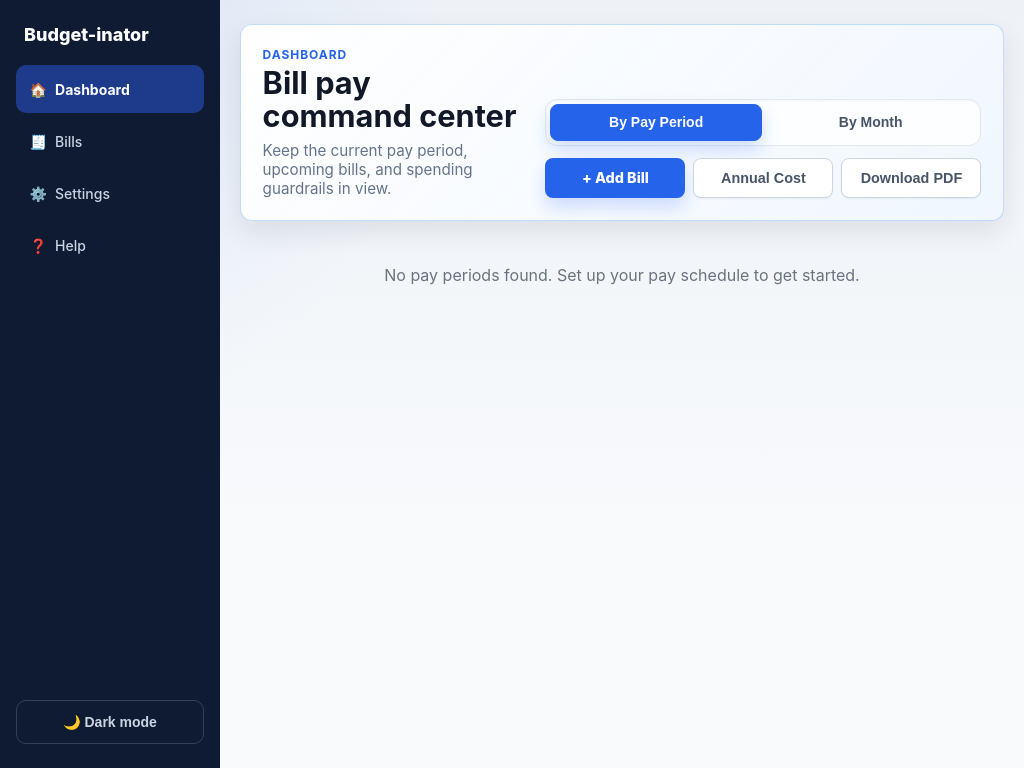
it: App › navigates to BillsPage without a full reload when the Add Bill link is clicked
Step 1. Click the link "+ Add Bill" → [615, 178], box [545,158,685,198]
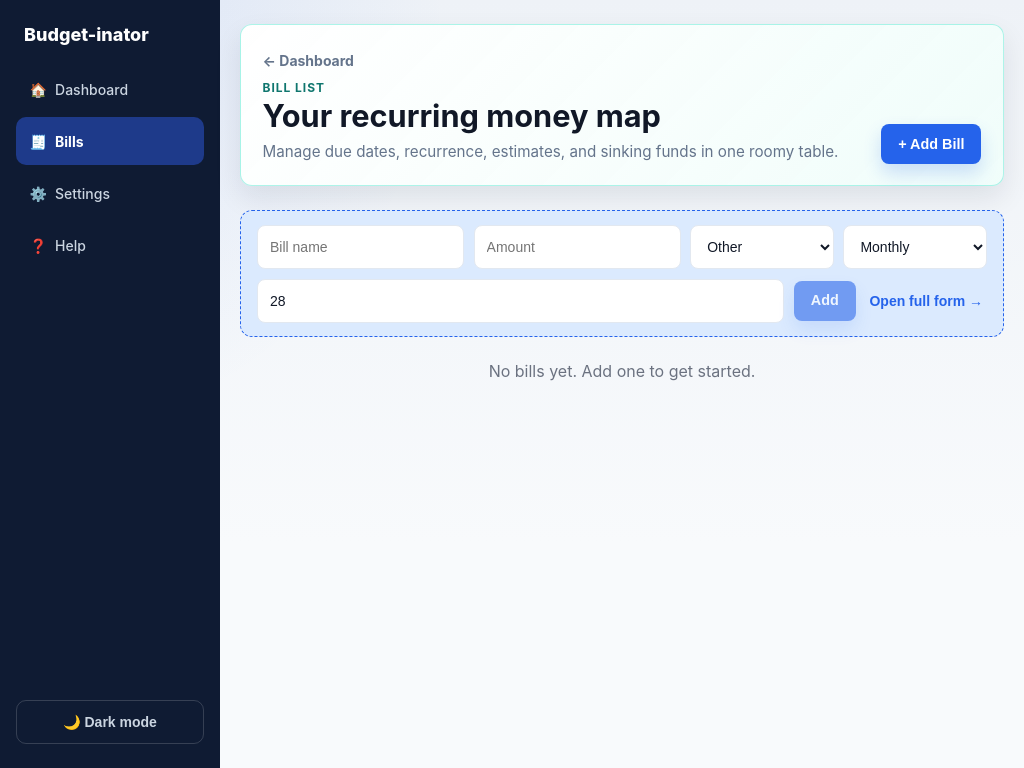
Check: the heading "Your recurring money map" is shown, box [263,97,661,134]
